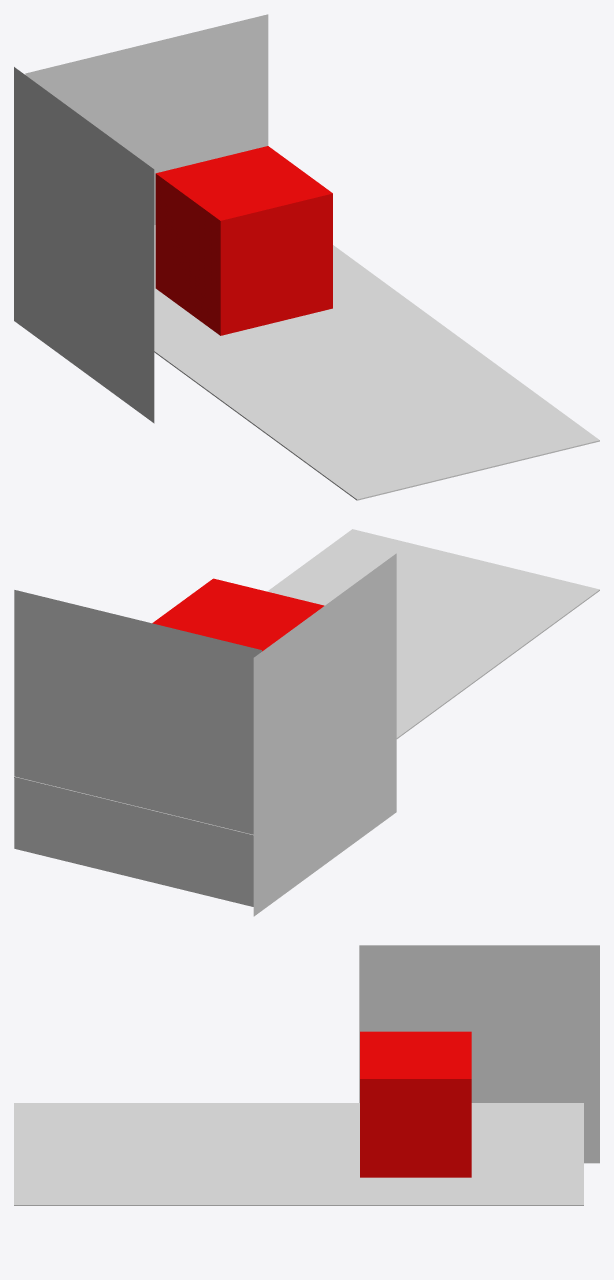
The model's file is emmiting.gltf.
3 views of the same model, one above another, from view 1: azimuth 30°, elevation 25°; view 2: azimuth 150°, elevation 25°; view 3: azimuth 270°, elevation 25° (orthographic). The views are drawn at different scales.
Visible parts, largest first — view 1: Plane.001, Plane.002, Cube, Plane; view 2: Plane, Plane.002, Plane.001, Cube; view 3: Plane.001, Plane.002, Cube.
Boxes of the visible parts, <box> form: Plane.001: <box>154,225,599,500</box>; Plane.002: <box>14,67,154,423</box>; Cube: <box>155,146,332,335</box>; Plane: <box>25,14,268,224</box>; Plane: <box>14,590,261,906</box>; Plane.002: <box>253,553,396,916</box>; Plane.001: <box>14,529,599,836</box>; Cube: <box>152,578,324,651</box>; Plane.001: <box>14,1103,583,1205</box>; Plane.002: <box>359,945,599,1163</box>; Cube: <box>360,1031,471,1177</box>.
Bounding box in the file's own units: 4.34 × 4.32 × 10.51.
